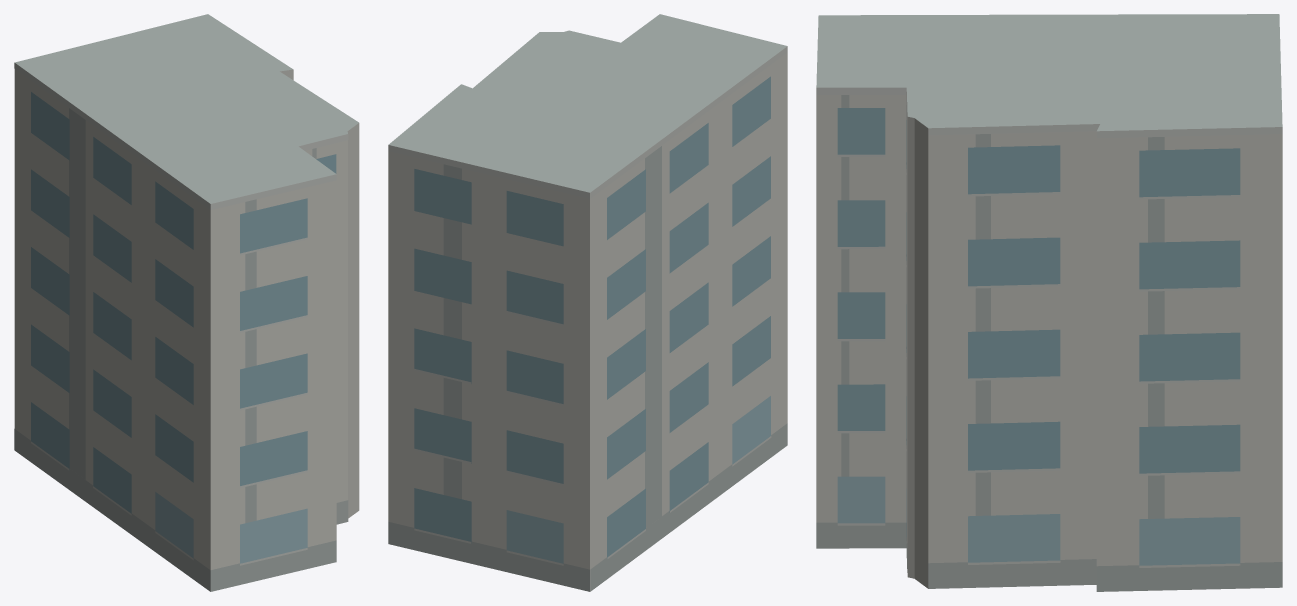
File: survey-upis-32881463.glb
3 renders of one model, left to right at view 1: azimuth 30°, elevation 25°; view 2: azimuth 150°, elevation 25°; view 3: azimuth 270°, elevation 25°, orthographic. The views are drawn at different scales.
Visible parts, largest first — view 1: survey-upis-32881463.tmp; view 2: survey-upis-32881463.tmp; view 3: survey-upis-32881463.tmp.
Part boxes in pixels (bbox=[...]): survey-upis-32881463.tmp: bbox=[14, 14, 359, 591]; survey-upis-32881463.tmp: bbox=[388, 14, 787, 591]; survey-upis-32881463.tmp: bbox=[816, 14, 1282, 591].
Bounding box in the file's own units: 8.48 × 15.53 × 14.25.
